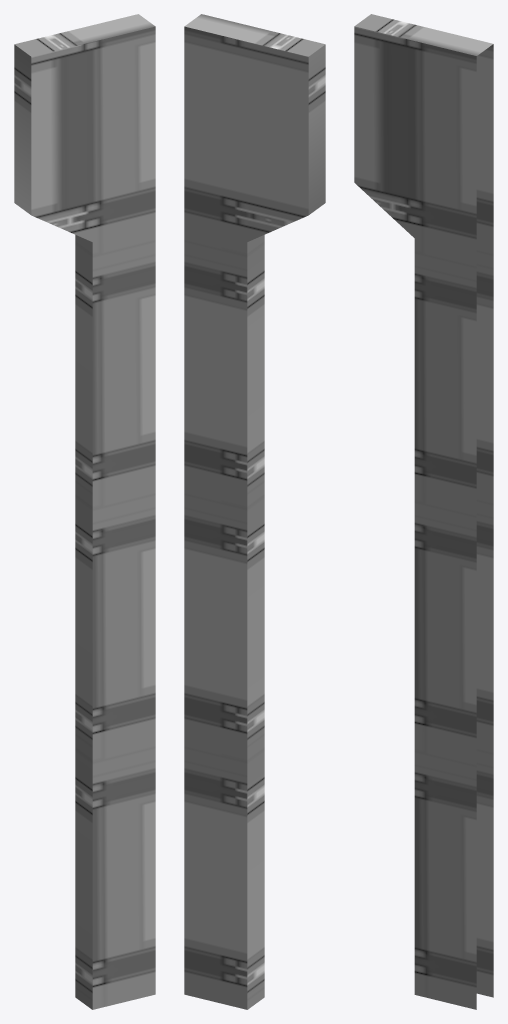
File: Hanger_Pillar.fbx
3 views of the same model, side by side, from view 1: azimuth 30°, elevation 25°; view 2: azimuth 150°, elevation 25°; view 3: azimuth 330°, elevation 25° (orthographic).
Visible parts, largest first — view 1: Pillar; view 2: Pillar; view 3: Pillar.
Part boxes in pixels (bbox=[...]): Pillar: bbox=[14, 14, 155, 1009]; Pillar: bbox=[184, 14, 325, 1009]; Pillar: bbox=[354, 14, 493, 1009].
Size of the model in its own units: 3763 by 28019 by 897.
